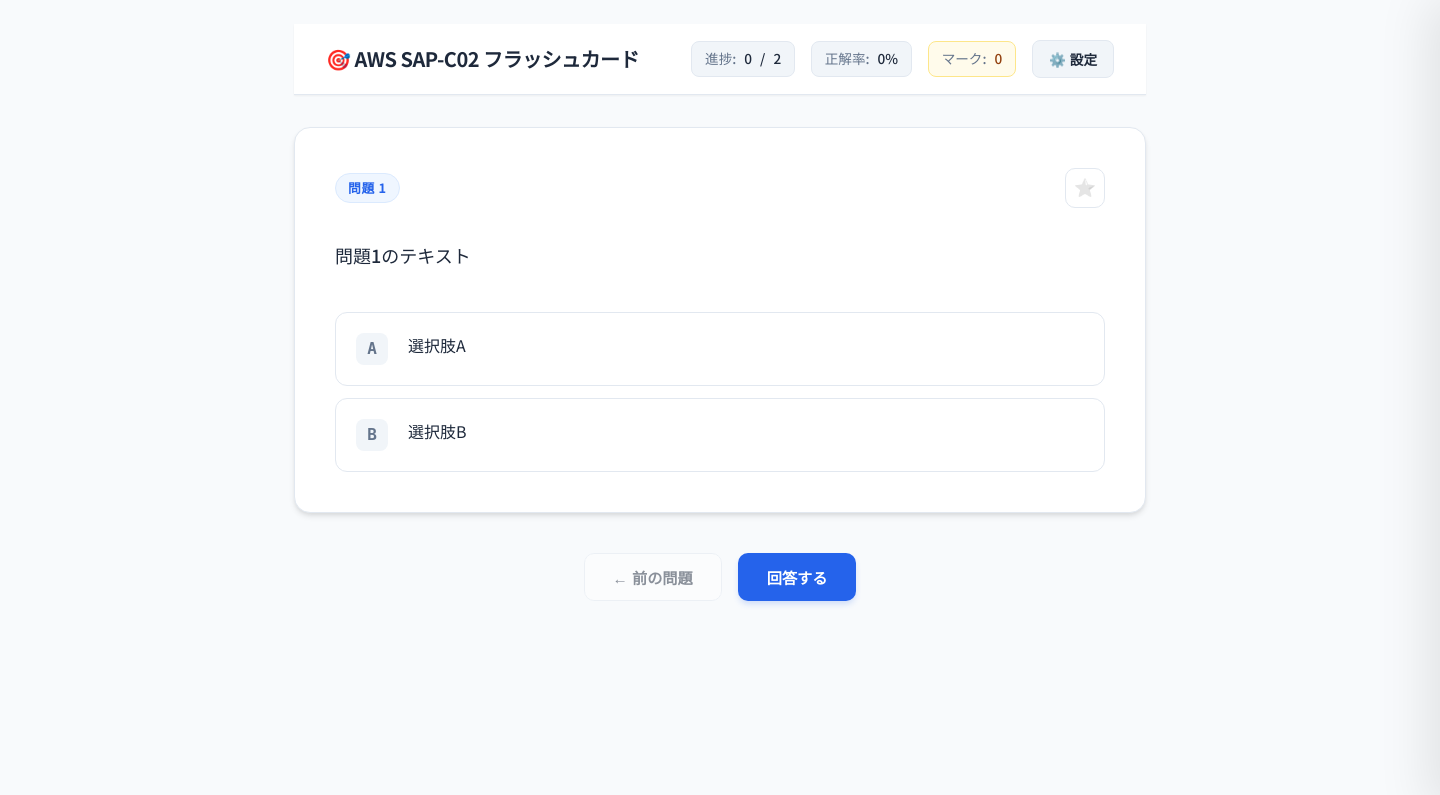
Test: FlashcardApp Component › allows user to select an answer and submit
Expected: the text "問題1のテキスト" is shown, [335,242,471,268]
Note: Select correct answer
What coordinates should you click on to do the following:
click the text "A"
I would click on:
 (372, 348)
Its box is [356,332,388,364].
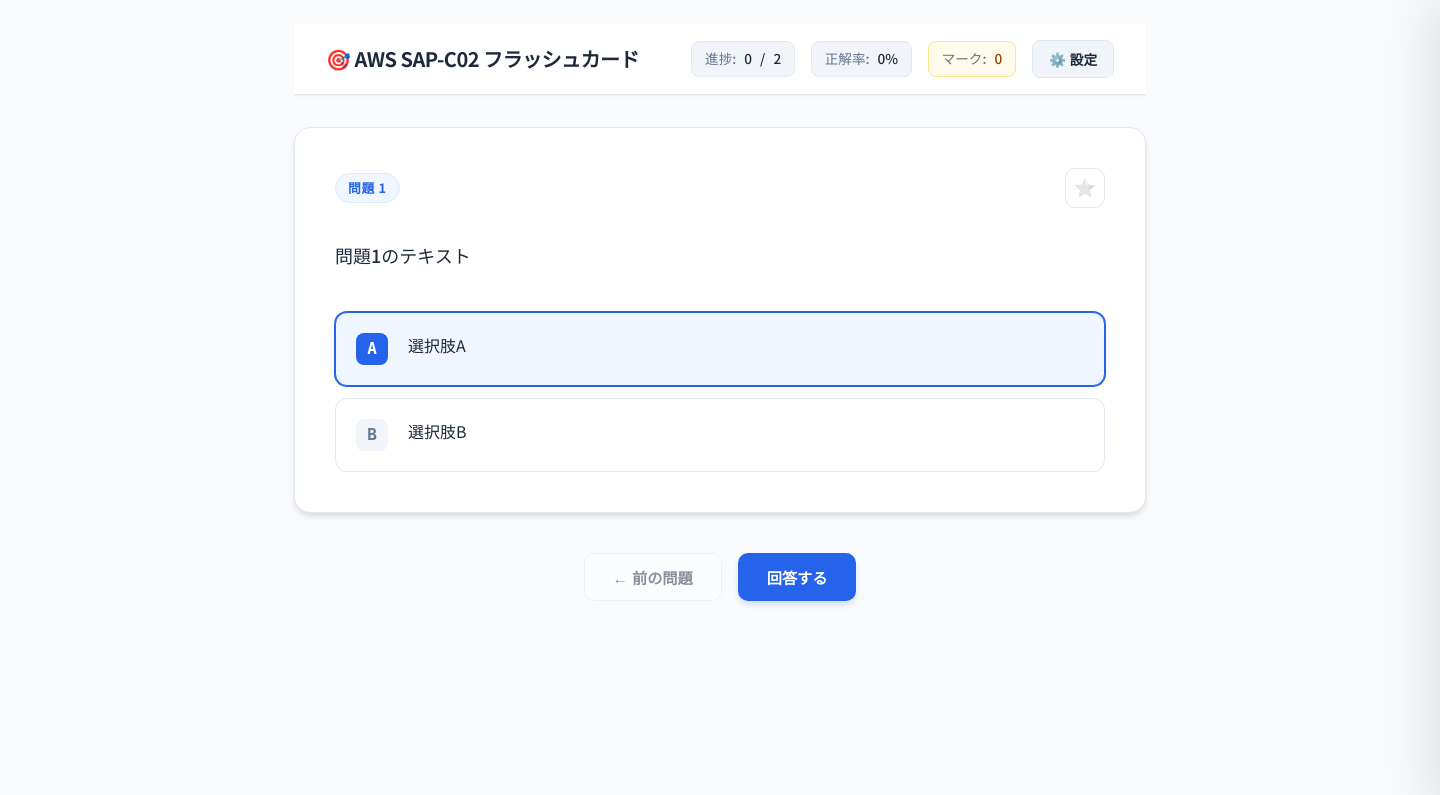
Note: Submit answer
What coordinates should you click on to do the following:
click the button "回答する"
I would click on:
 (797, 576)
Its box is [738,552,856,600].
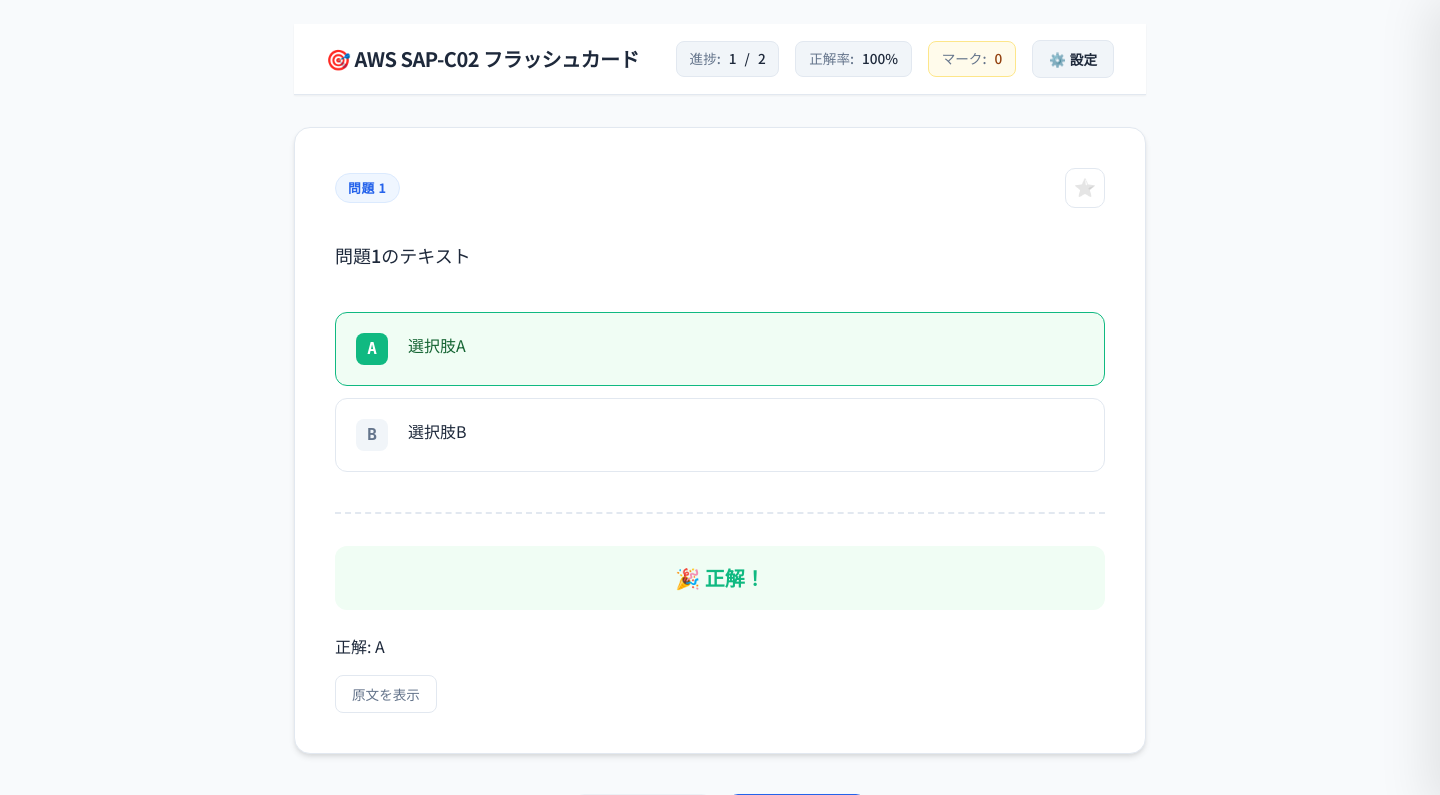
Result: the text "🎉 正解！" is shown at [335,546,1105,610]
Result: the text with test id "progress-count" reads "1" at [729,48,737,68]
